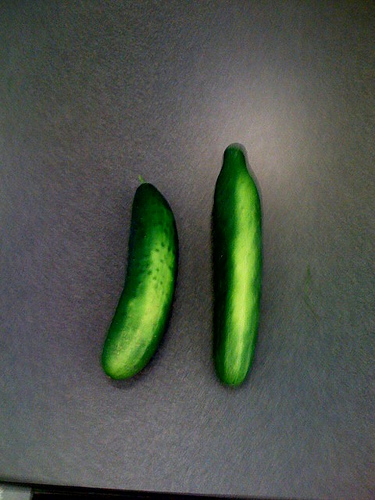cucumber: (98, 176, 178, 387), (202, 140, 268, 395)
